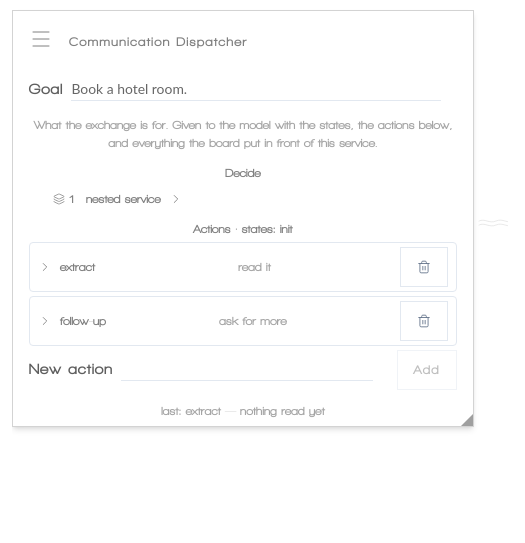
Test: editing one action's pipeline › shows each action, its precondition and what was last decided
Check: the text "extract" next to "read it" is shown, box [60,261,95,273]
Check: the text "last: extract — nothing read yet" is shown, box [161,405,325,417]
What coordinates should you click on to do the following:
click the text "follow-up"
I would click on:
 (83, 321)
Its box is [60,312,106,330].
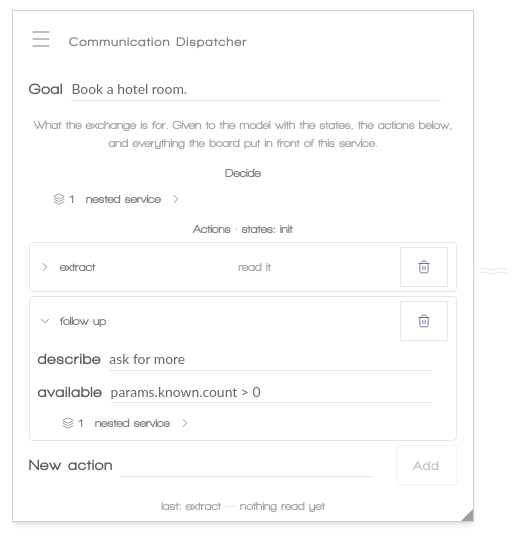
Check: the field showing "params.known.count > 0" next to "available" is shown, box [111,381,432,403]
